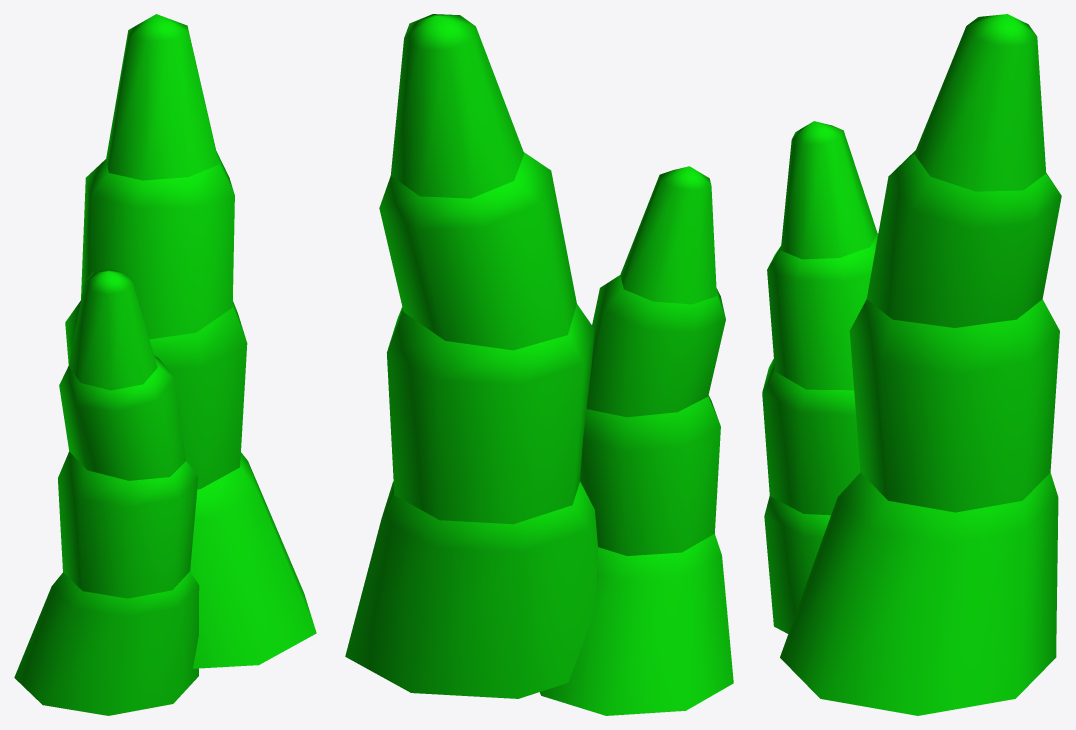
File: m_spire3.fbx
3 views of the same model, side by side, from view 1: azimuth 30°, elevation 25°; view 2: azimuth 150°, elevation 25°; view 3: azimuth 270°, elevation 25° (orthographic). The views are drawn at different scales.
Parts seen in each view (by area): view 1: m_spire3; view 2: m_spire3; view 3: m_spire3.
Boxes of the visible parts, bbox=[...] form: m_spire3: bbox=[14, 14, 316, 715]; m_spire3: bbox=[345, 14, 733, 715]; m_spire3: bbox=[762, 14, 1061, 715].
Size of the model in its own units: 1.71 by 3.28 by 1.35.
